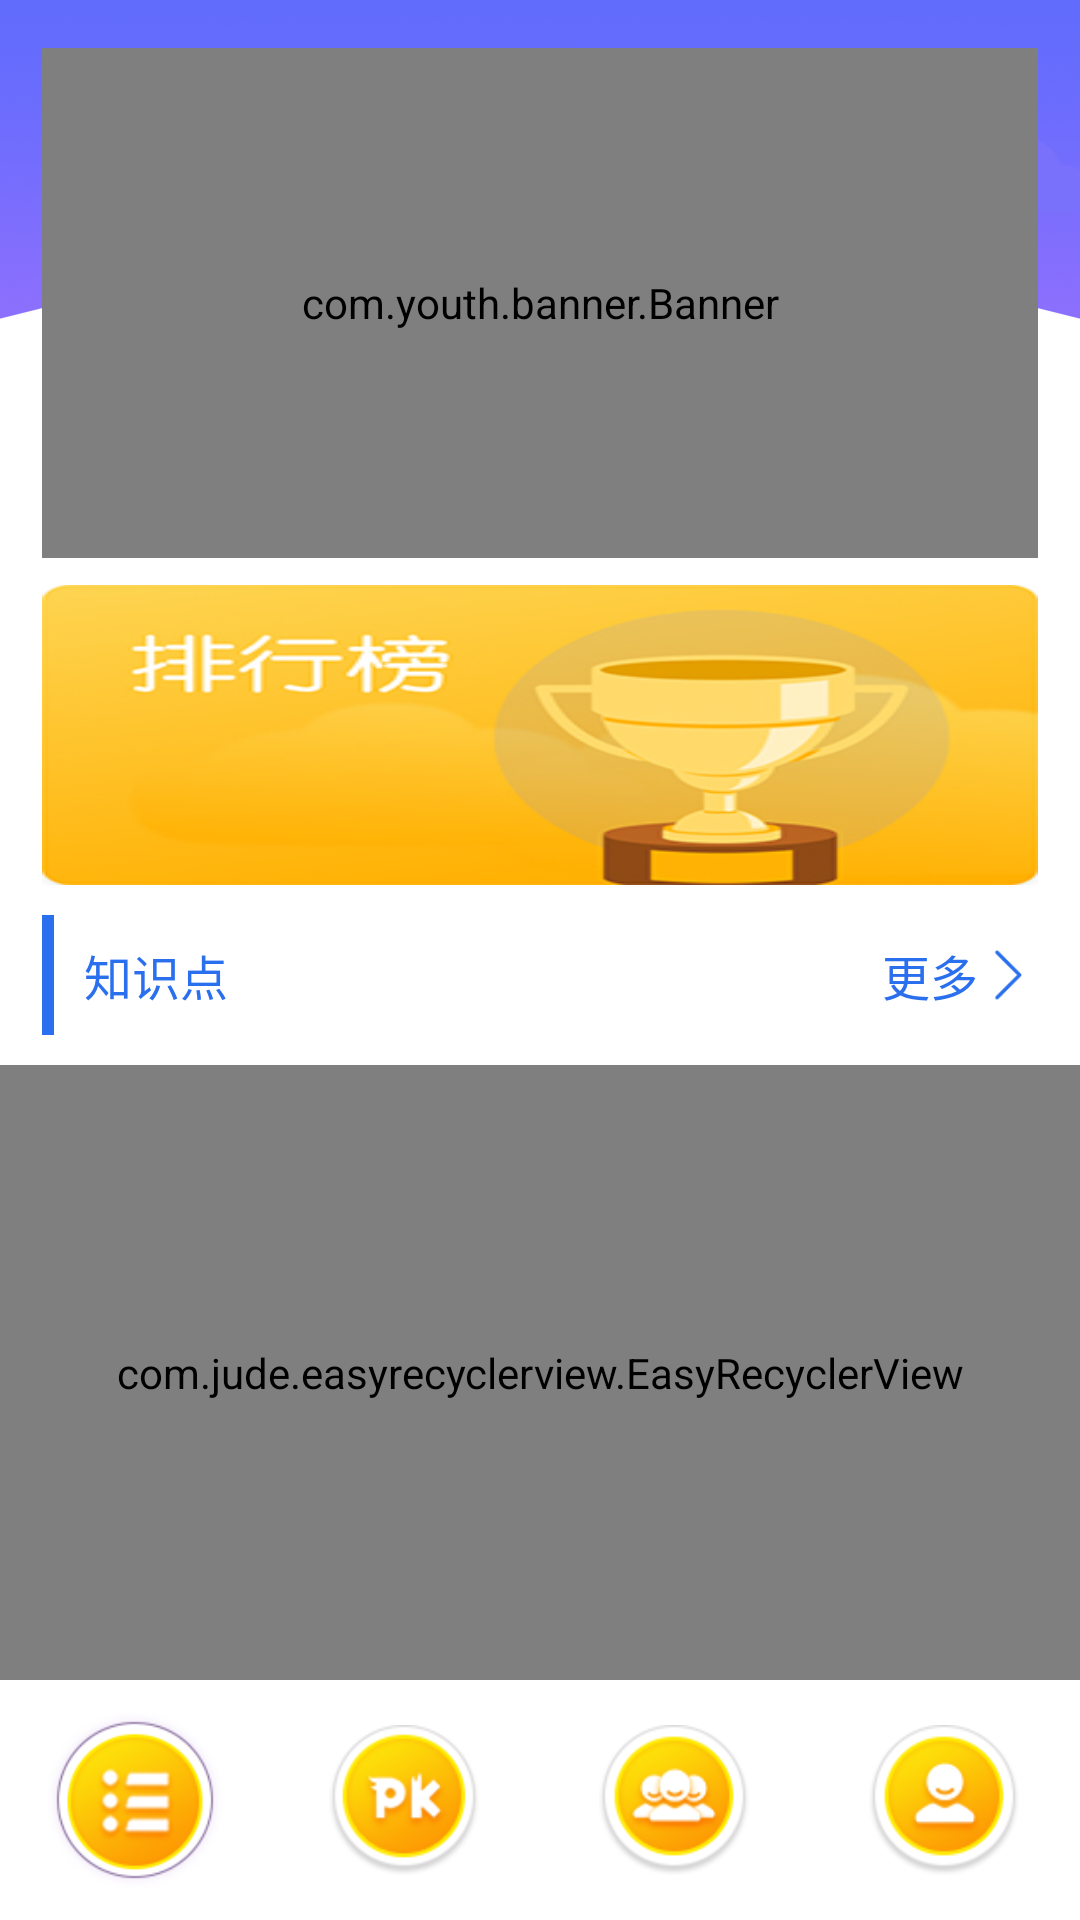

Locate icon controls on the screen. Image size 1080 x 1920, boxes as bbox(x1, y1, x2, y2).
mine: bbox(873, 1725, 1015, 1871)
right: bbox(995, 950, 1022, 1000)
team: bbox(603, 1725, 745, 1871)
